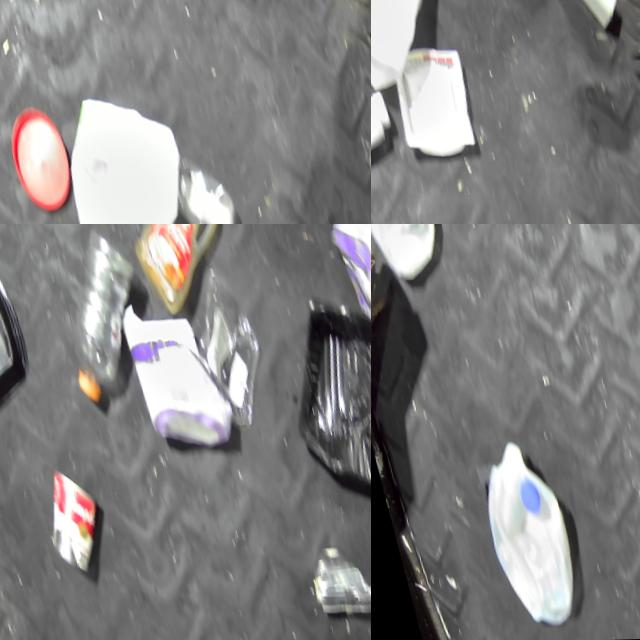can: (25, 461, 104, 579), (294, 540, 371, 627)
milk_jug: (459, 431, 578, 632), (52, 86, 206, 224), (371, 0, 451, 98)
non_white_jug: (111, 288, 234, 460), (112, 224, 241, 321), (318, 224, 371, 333)
plastic_bottle: (37, 224, 160, 407)
